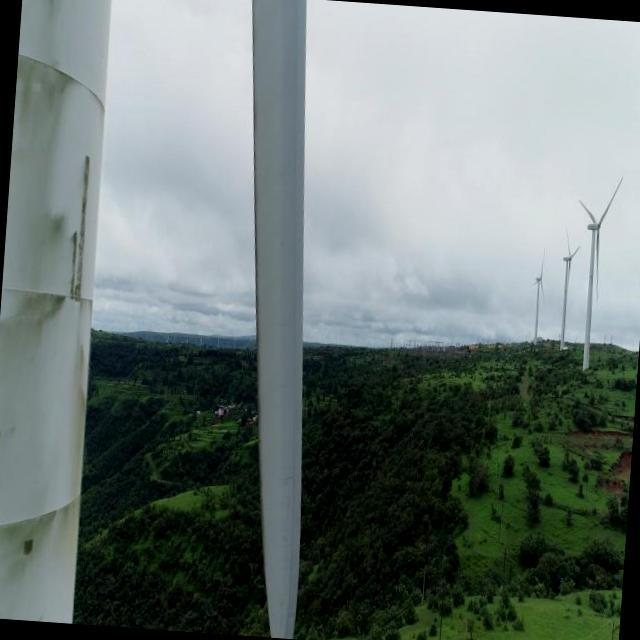Dirt: (0, 0, 113, 626)
